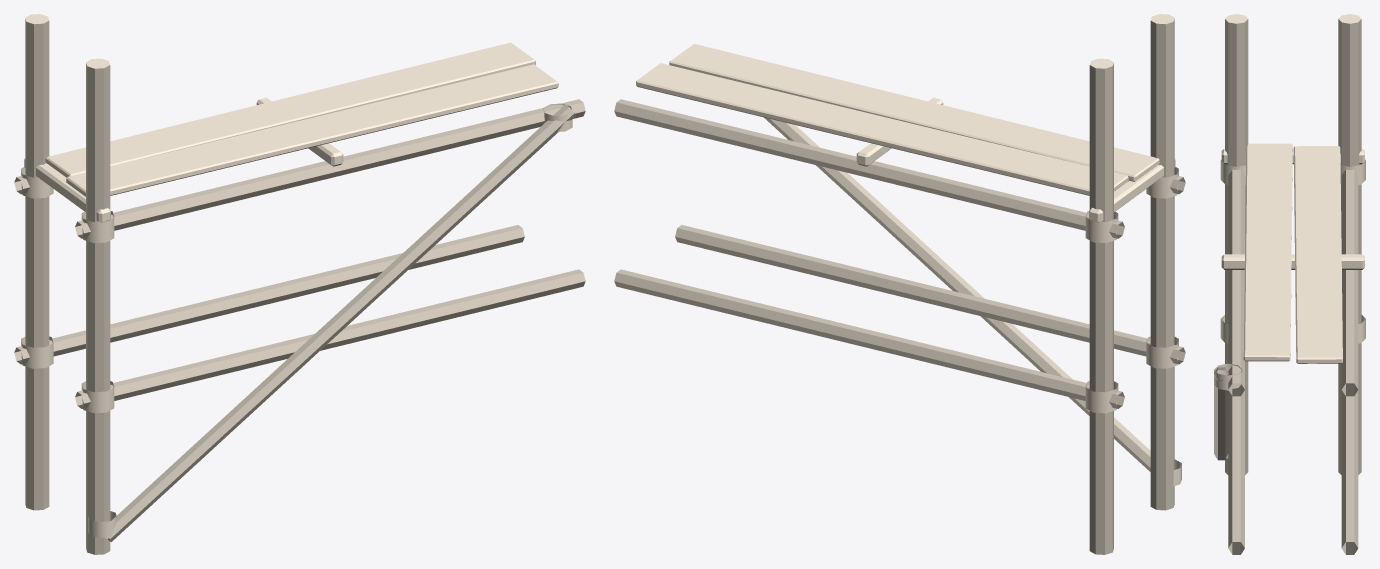
Rendered from SM_VK_Scaffold_Wall.fbx.
The picture shows the model from 3 angles, left to right: view 1: azimuth 30°, elevation 25°; view 2: azimuth 150°, elevation 25°; view 3: azimuth 270°, elevation 25°; orthographic projection. The views are drawn at different scales.
Parts seen in each view (by area): view 1: SM_VK_Scaffold_Wall.001; view 2: SM_VK_Scaffold_Wall.001; view 3: SM_VK_Scaffold_Wall.001.
Boxes of the visible parts, x1,y1,x2,y2 form: SM_VK_Scaffold_Wall.001: [14, 14, 585, 554]; SM_VK_Scaffold_Wall.001: [614, 14, 1185, 554]; SM_VK_Scaffold_Wall.001: [1214, 14, 1365, 554].
Size of the model in its own units: 3.24 by 3 by 0.91.
